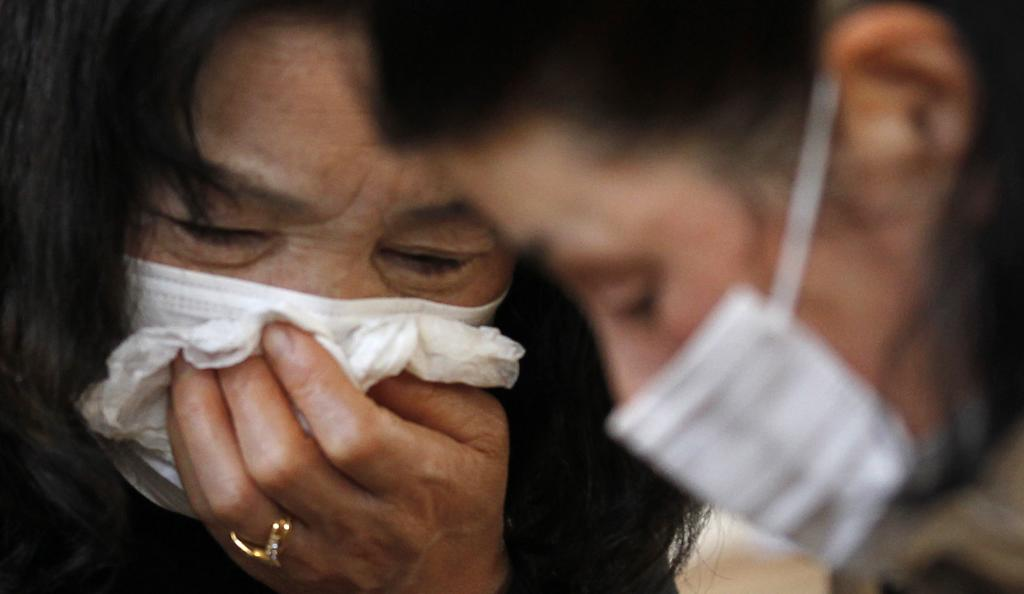with_mask: (471, 49, 979, 550), (58, 27, 542, 515)
